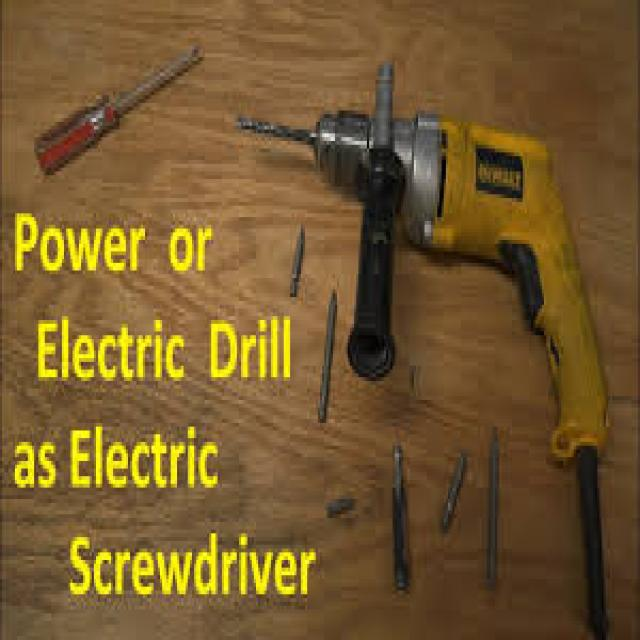screw driver: (9, 15, 218, 186)
